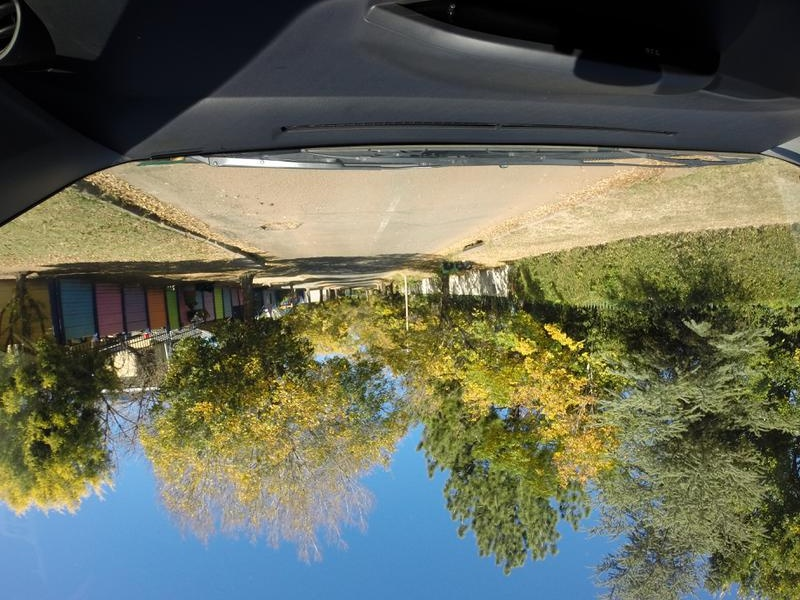pothole: (254, 217, 312, 240)
